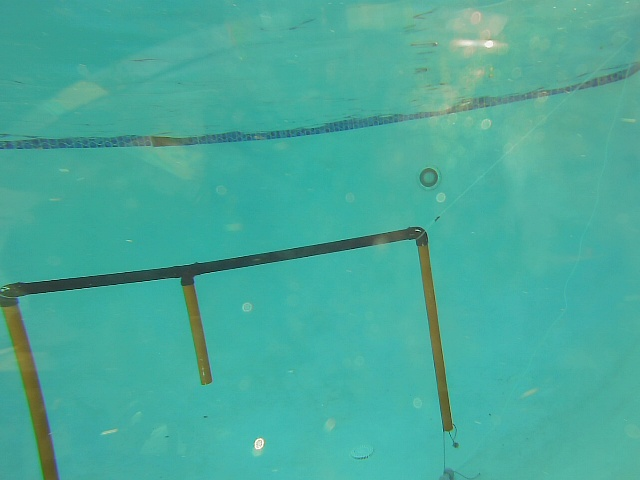Gate: (1, 302, 65, 480), (412, 238, 452, 434), (175, 277, 212, 389)
